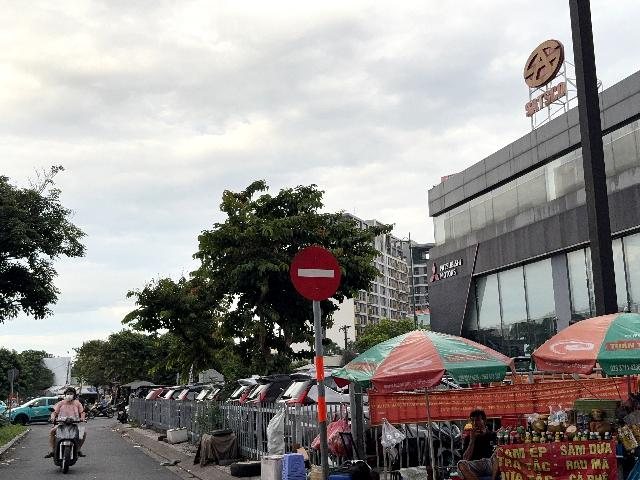cam-di-nguoc-chieu: (290, 246, 340, 301)
